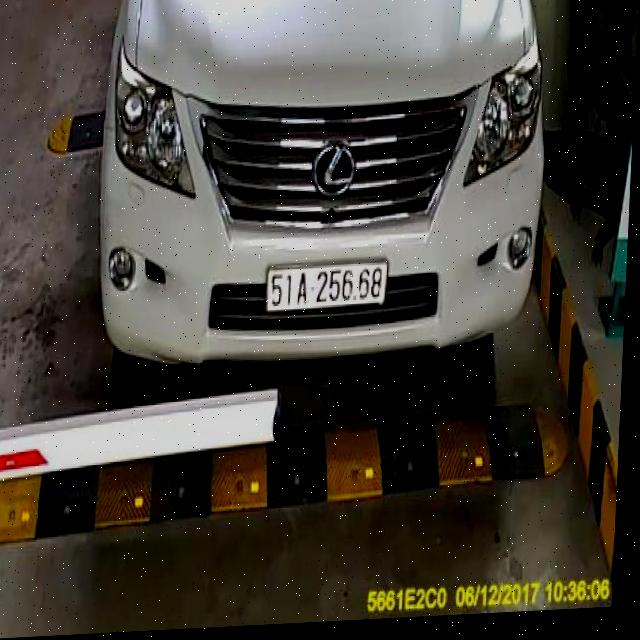car: (78, 0, 555, 401)
plate: (259, 254, 393, 315)
